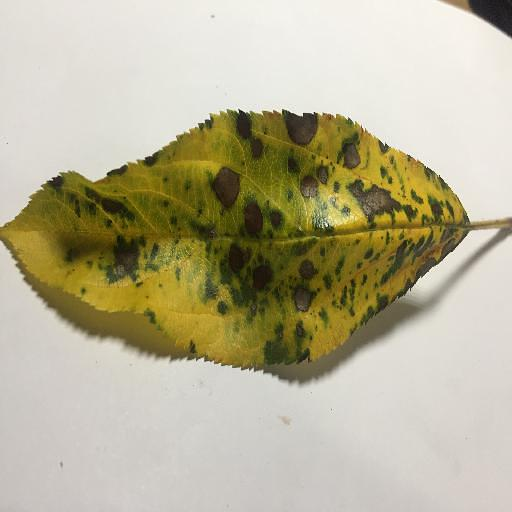Brown_Spot: (347, 180, 397, 215), (293, 295, 327, 329), (209, 169, 239, 206), (282, 116, 320, 144), (103, 241, 141, 269), (410, 249, 431, 283), (235, 206, 264, 229), (337, 145, 358, 171), (245, 137, 264, 163), (297, 173, 315, 195), (223, 253, 246, 269), (430, 203, 452, 218), (235, 116, 250, 134), (257, 268, 271, 282)
